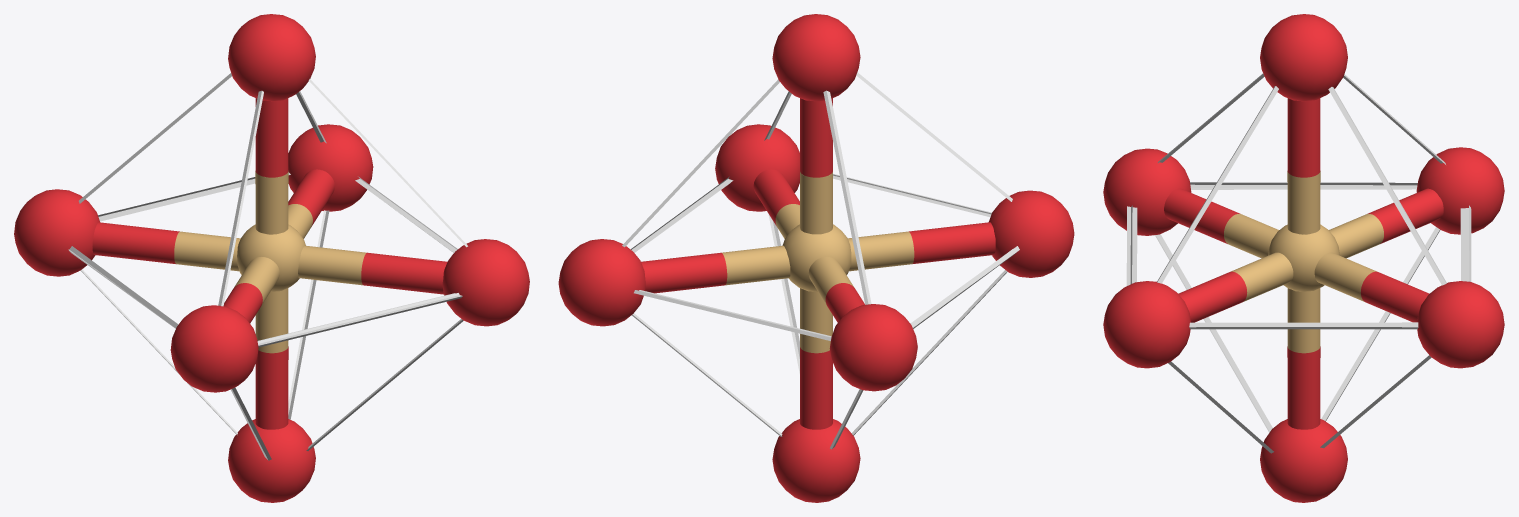
3 views of the same model, side by side, from view 1: azimuth 30°, elevation 25°; view 2: azimuth 150°, elevation 25°; view 3: azimuth 270°, elevation 25° (orthographic).
Parts seen in each view (by area): view 1: Shape_IndexedFaceSet.001; view 2: Shape_IndexedFaceSet.001; view 3: Shape_IndexedFaceSet.001.
Boxes of the visible parts, x1,y1,x2,y2 form: Shape_IndexedFaceSet.001: (14,14,529,502); Shape_IndexedFaceSet.001: (558,14,1074,502); Shape_IndexedFaceSet.001: (1103,14,1504,502).
Size of the model in its own units: 2.58 by 3.41 by 2.58.
